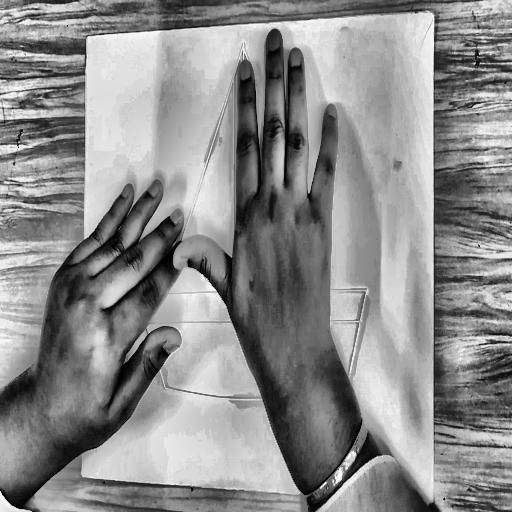boat: (132, 27, 372, 408)
bottom_left: (78, 466, 88, 482)
bottom_right: (430, 496, 440, 512)
top_left: (84, 30, 92, 44)
top_right: (429, 8, 438, 22)
